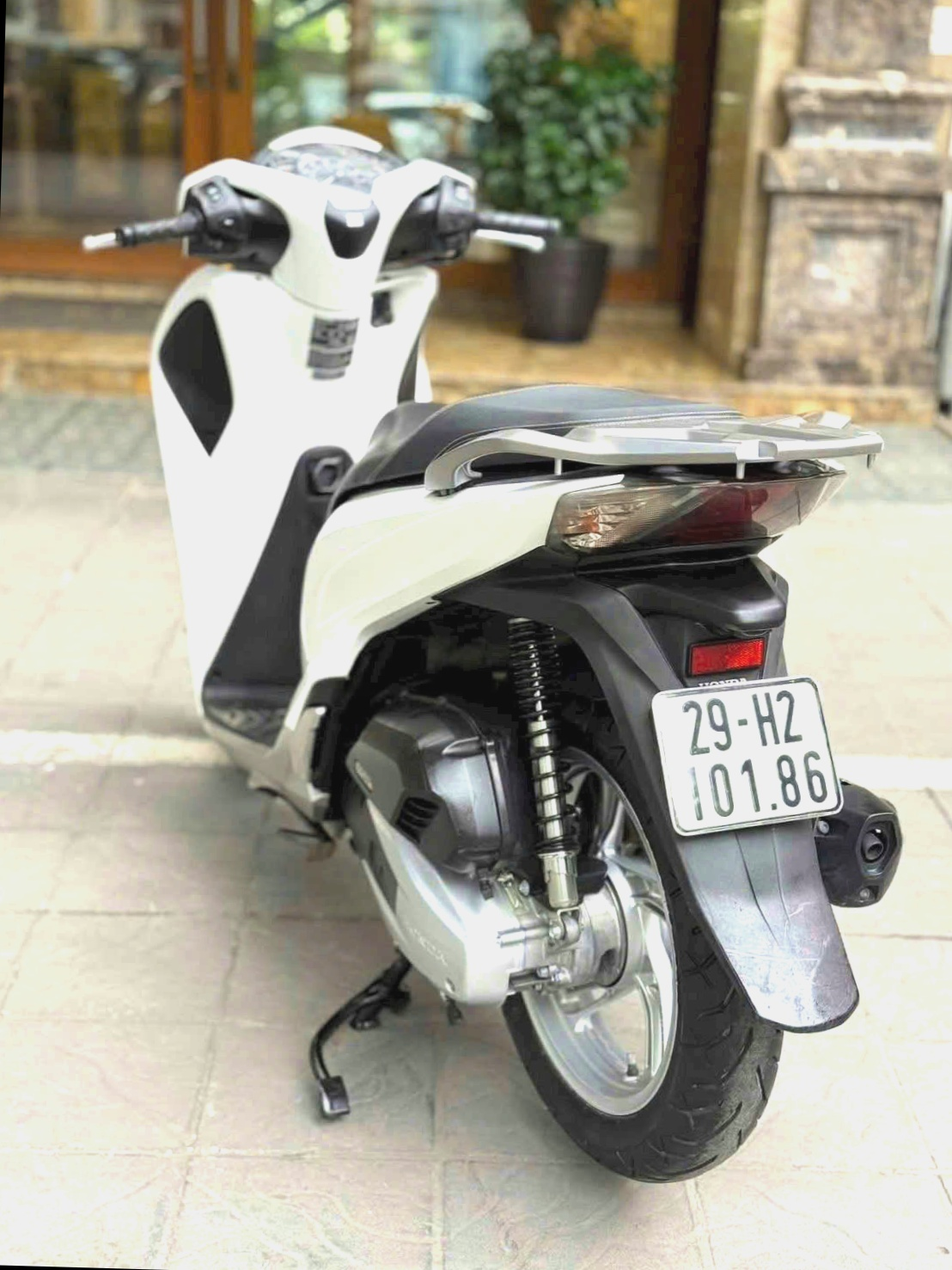Bien-so: (646, 629, 849, 805)
